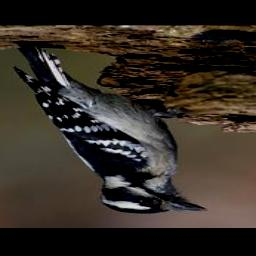Woodpecker: (12, 39, 207, 217)
